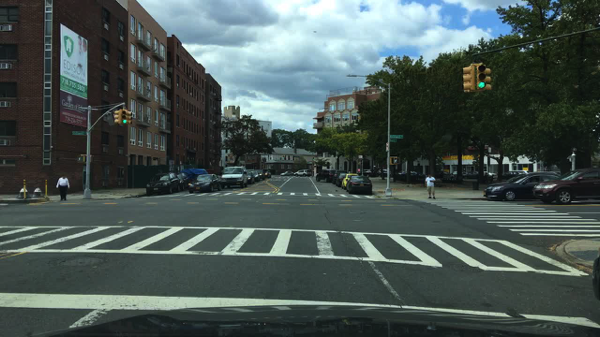car: (532, 168, 599, 204), (483, 172, 562, 202), (146, 170, 179, 196), (187, 174, 221, 194), (220, 166, 248, 190), (345, 174, 373, 195), (183, 168, 209, 185), (591, 257, 599, 300), (340, 174, 359, 190), (175, 173, 191, 191), (393, 170, 417, 181), (331, 170, 348, 184), (314, 169, 330, 183), (505, 170, 528, 179), (373, 168, 393, 178), (246, 170, 260, 183), (335, 173, 346, 188), (325, 169, 335, 183), (295, 169, 312, 177), (245, 172, 256, 184), (255, 169, 265, 181), (262, 168, 272, 178), (379, 168, 386, 181), (359, 169, 371, 176), (416, 174, 428, 180), (280, 171, 294, 176), (467, 171, 479, 176), (451, 170, 458, 176), (484, 171, 492, 176), (461, 171, 468, 176)
person: (56, 174, 71, 202), (424, 174, 435, 199), (357, 167, 361, 173)
traffic light: (474, 63, 487, 92), (462, 67, 472, 93), (120, 109, 128, 125), (389, 156, 401, 166), (126, 111, 134, 125), (486, 68, 491, 89), (78, 154, 88, 163), (113, 110, 119, 124)
traffic sign: (71, 130, 88, 136), (389, 134, 403, 139), (385, 143, 389, 152), (389, 139, 397, 143), (488, 147, 492, 153), (358, 155, 363, 159)
